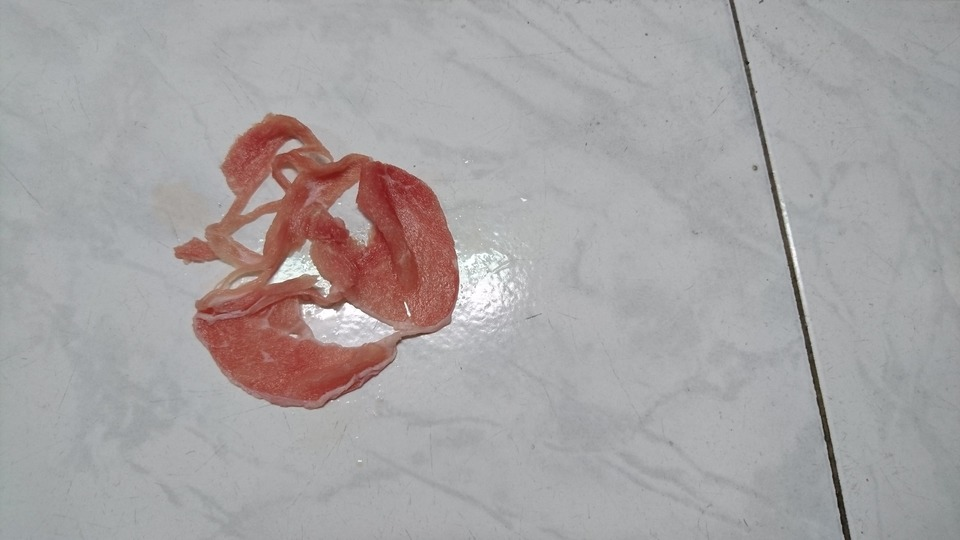restructured meat: (176, 109, 460, 411)
